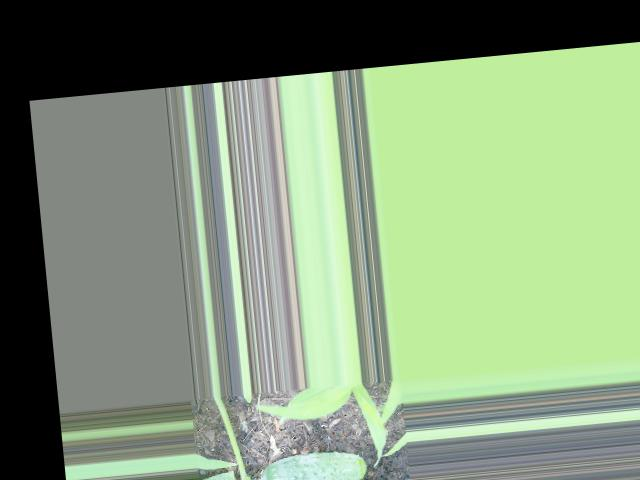cucumber: (260, 447, 369, 480)
